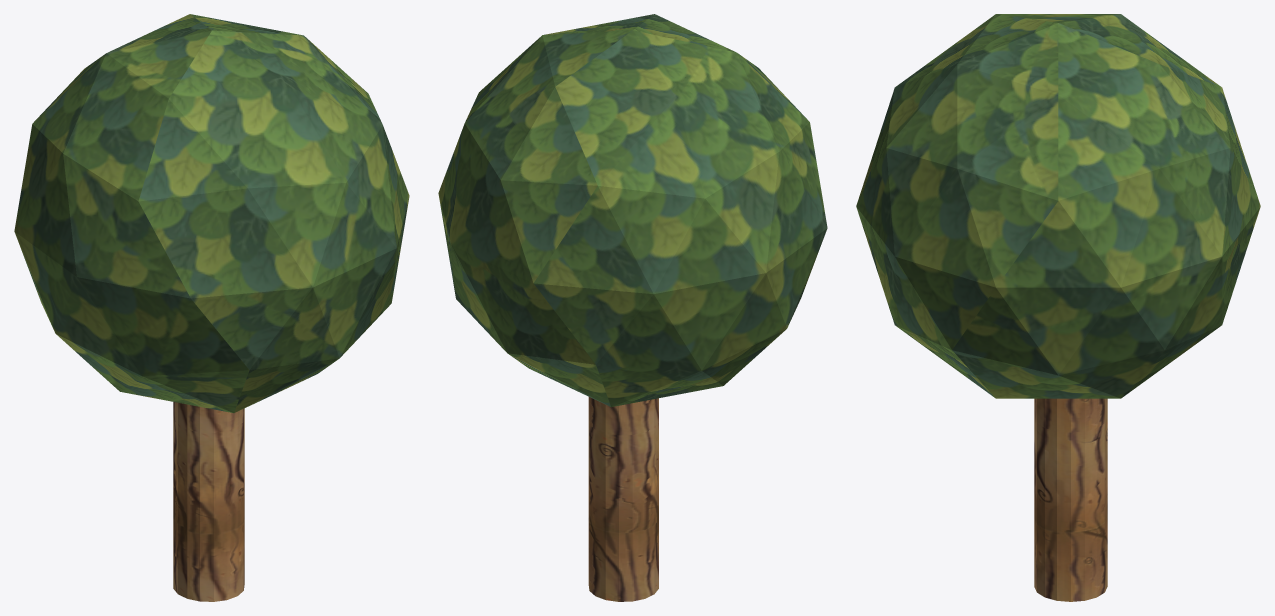
The model's file is theFoldTreesSpread.fbx.
3 views of the same model, side by side, from view 1: azimuth 30°, elevation 25°; view 2: azimuth 150°, elevation 25°; view 3: azimuth 270°, elevation 25° (orthographic).
Visible parts, largest first — view 1: pCylinder1.023; view 2: pCylinder1.023; view 3: pCylinder1.023.
Part boxes in pixels (x1,y1,x2,y2): pCylinder1.023: (14, 14, 409, 601); pCylinder1.023: (438, 14, 827, 601); pCylinder1.023: (856, 14, 1260, 601).
Size of the model in its own units: 13.78 by 22.21 by 14.49.
Materials: 1 (1 with a texture image).
